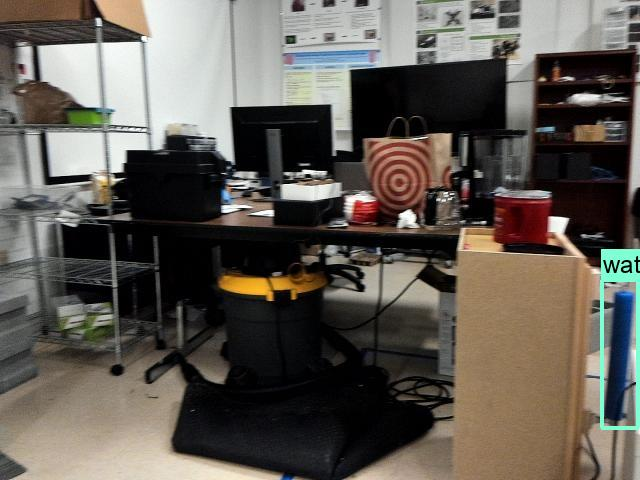noodle_handle: (606, 278, 634, 432)
